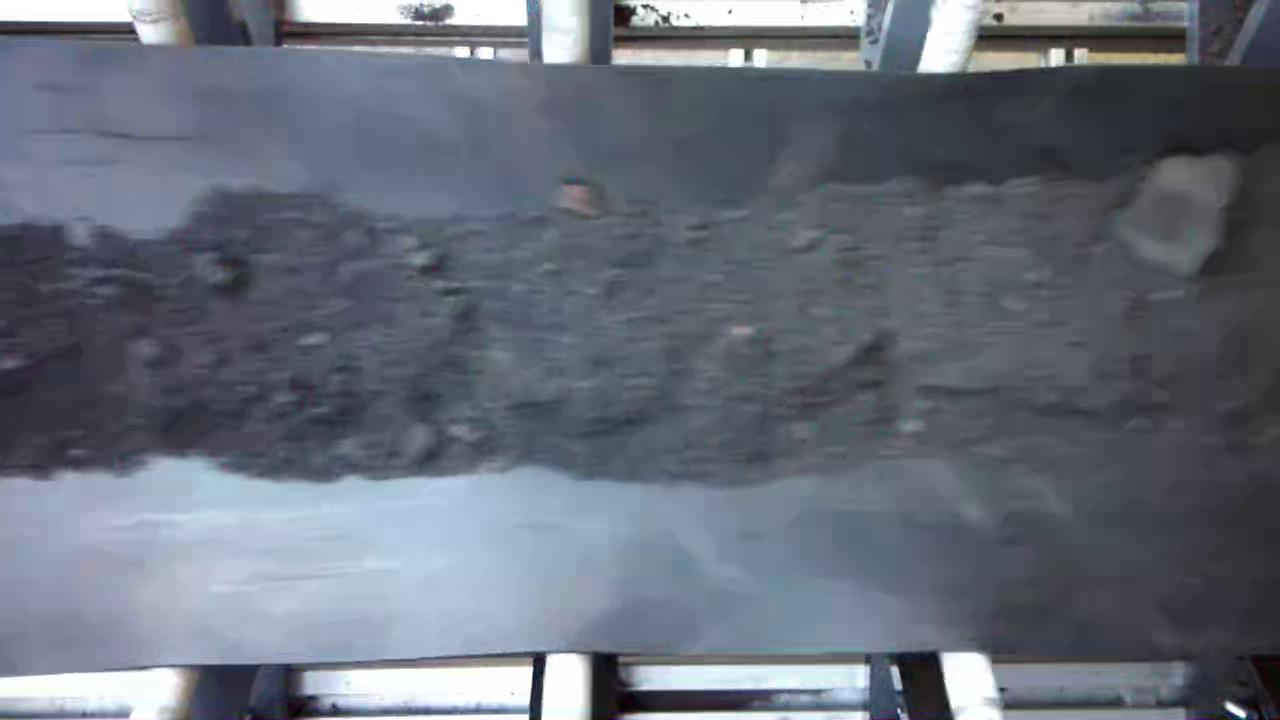conveyor: (5, 76, 1280, 648)
